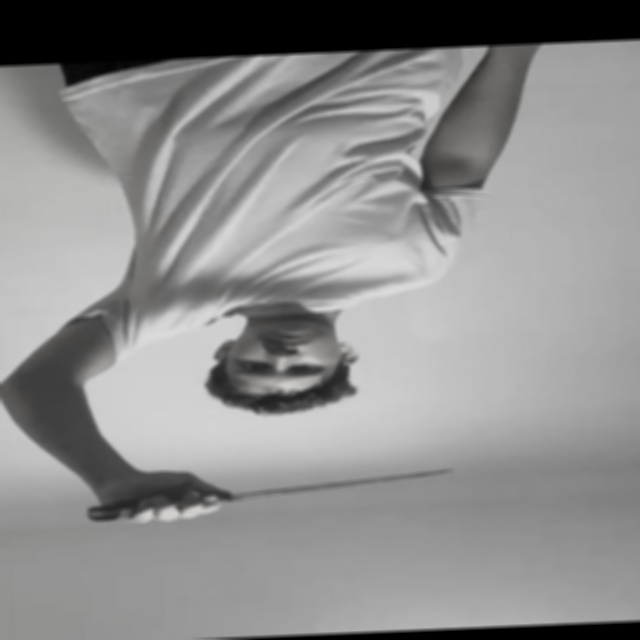Sharp-Object: (218, 468, 455, 503)
